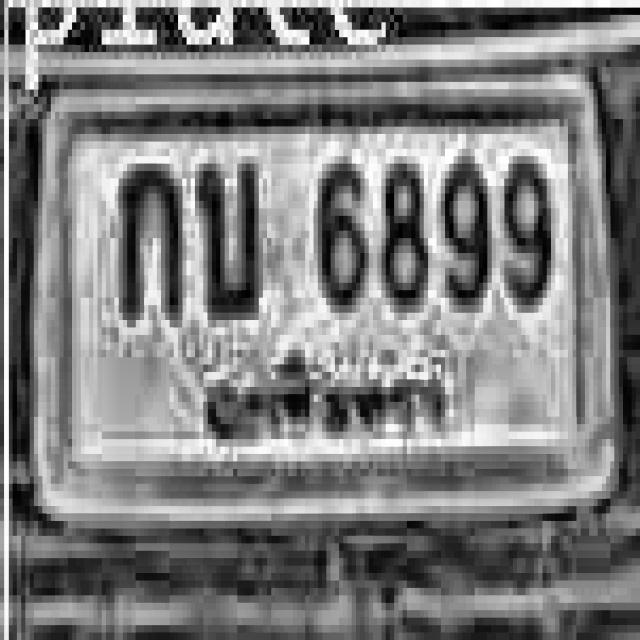license-plate: (29, 76, 626, 532)
